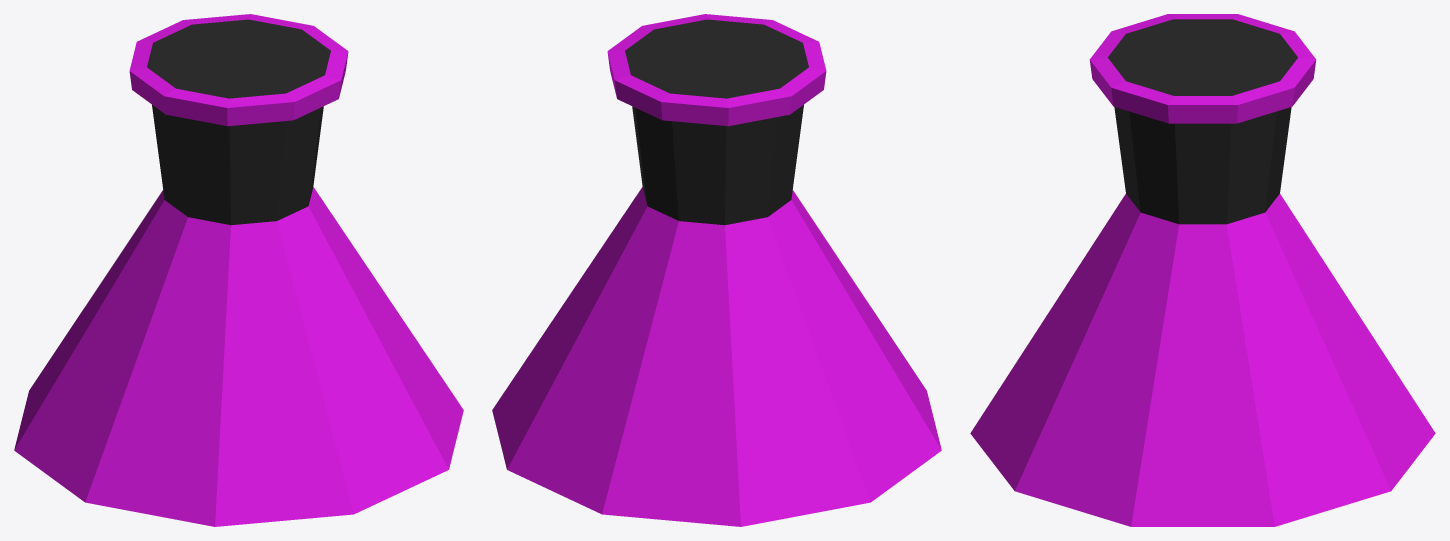
File: purple flask.fbx
3 renders of one model, left to right at view 1: azimuth 30°, elevation 25°; view 2: azimuth 150°, elevation 25°; view 3: azimuth 270°, elevation 25°, orthographic.
Visible parts, largest first — view 1: purple flask; view 2: purple flask; view 3: purple flask.
Part boxes in pixels (box(x1,y1,x2,y2)): purple flask: box(14, 14, 463, 526); purple flask: box(492, 14, 941, 526); purple flask: box(970, 14, 1435, 526).
Bounding box in the file's own units: 190 × 178 × 200.
